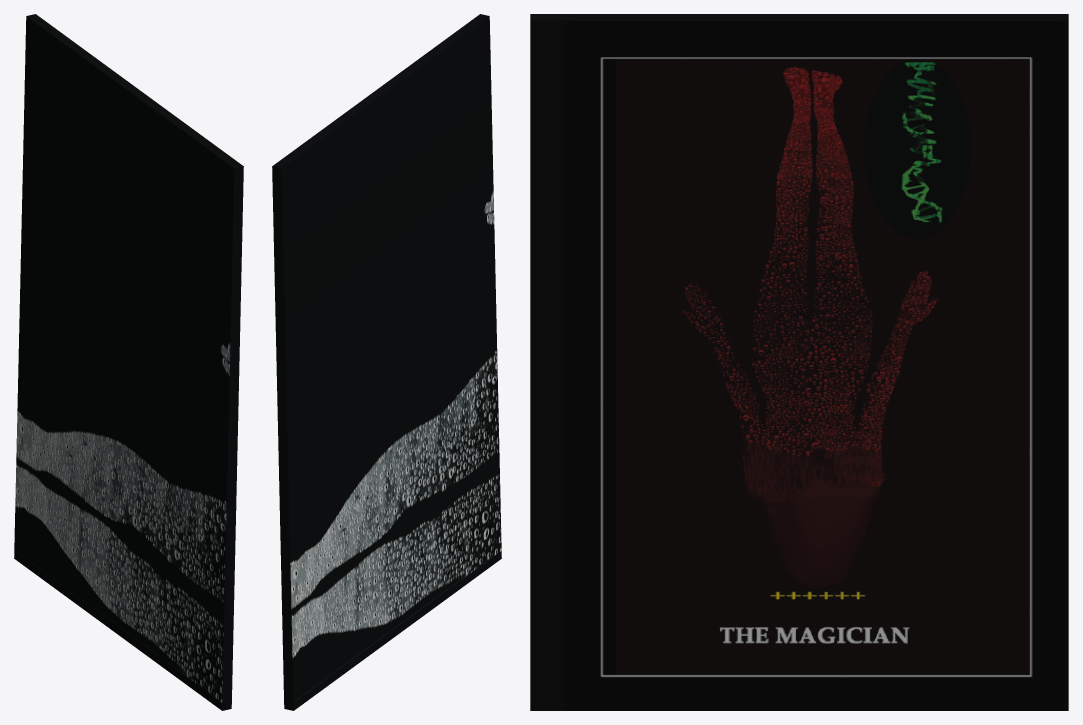
File: magician.glb
3 renders of one model, left to right at view 1: azimuth 30°, elevation 25°; view 2: azimuth 150°, elevation 25°; view 3: azimuth 270°, elevation 25°, orthographic. The views are drawn at different scales.
Visible parts, largest first — view 1: pCube5; view 2: pCube5; view 3: pCube5.
Part boxes in pixels (x1,y1,x2,y2): pCube5: (14, 14, 243, 710); pCube5: (272, 14, 501, 710); pCube5: (530, 14, 1068, 710).
Bounding box in the file's own units: 0.0259 × 0.6182 × 0.4319.
1 material, 1 textured.
